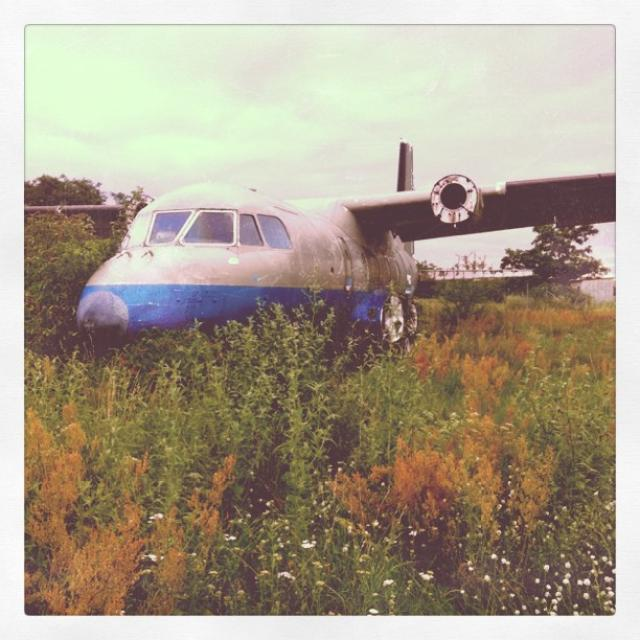airplane: (27, 137, 616, 371)
